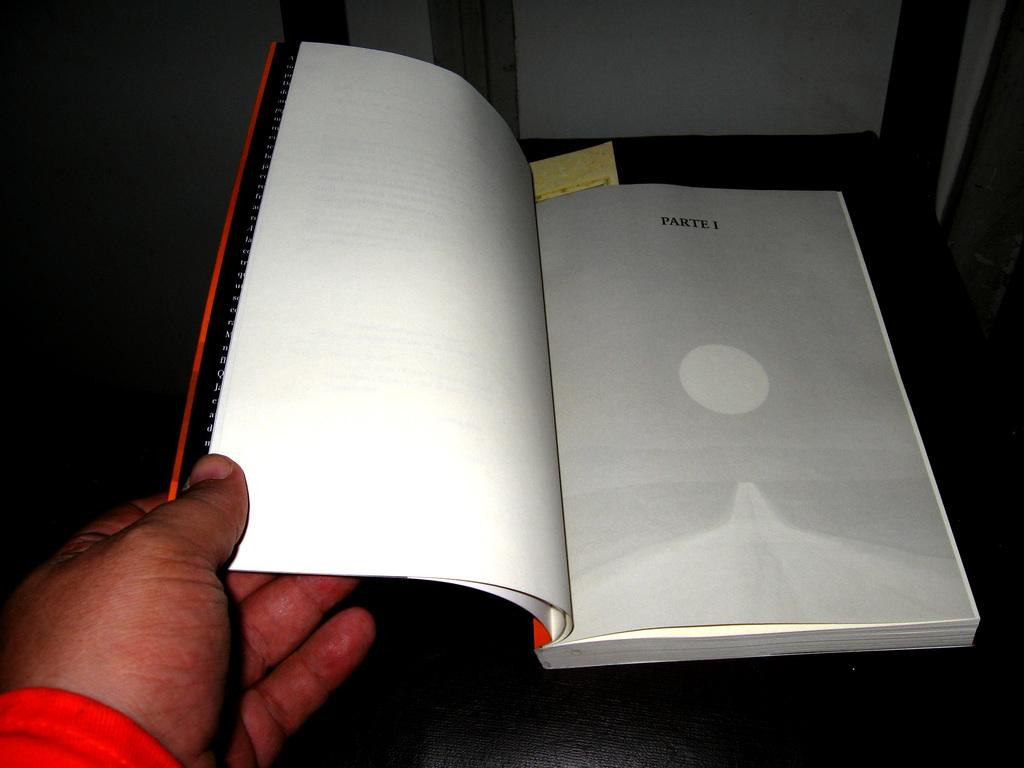Book: (167, 38, 981, 670)
